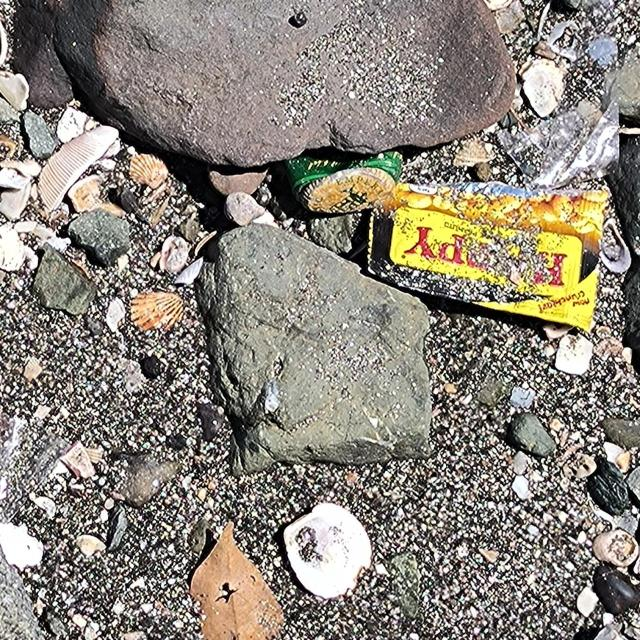plastic_waste: (368, 182, 607, 335)
